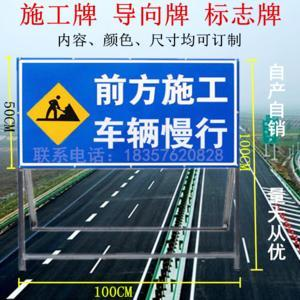sign: (17, 59, 238, 170)
